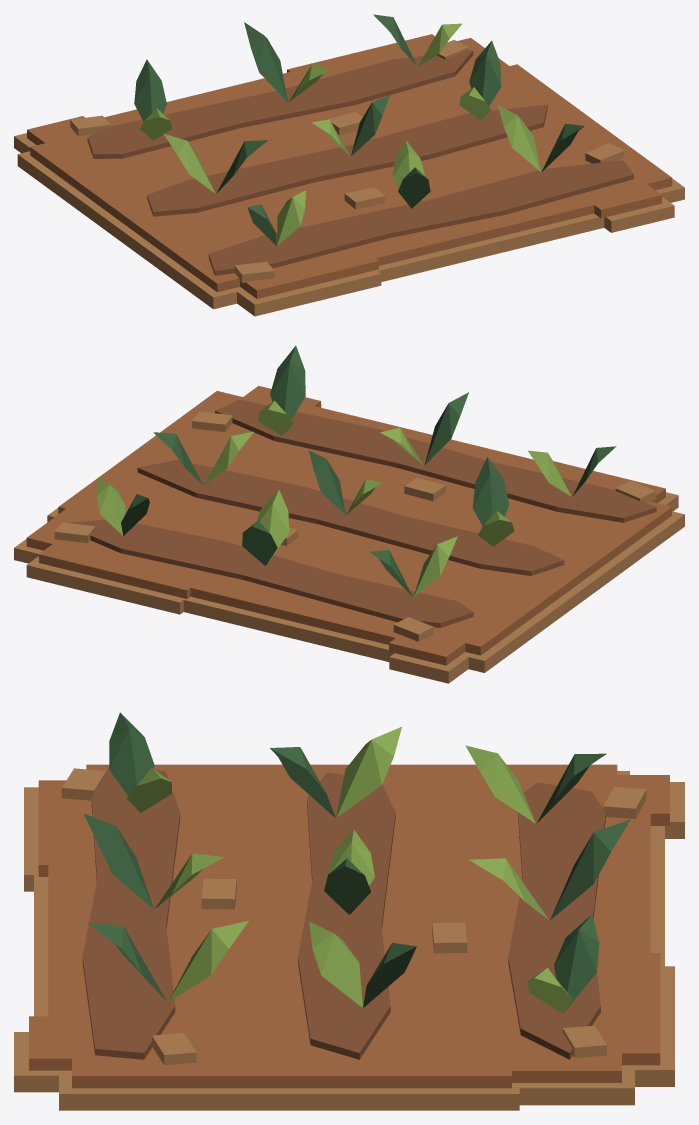
File: plot-sprout.glb
3 views of the same model, one above another, from view 1: azimuth 30°, elevation 25°; view 2: azimuth 150°, elevation 25°; view 3: azimuth 270°, elevation 25° (orthographic). The views are drawn at different scales.
Parts seen in each view (by area): view 1: Blade; view 2: Blade; view 3: Blade.
Part boxes in pixels (x1=…): Blade: x1=14, y1=14, x2=684, y2=316; Blade: x1=14, y1=345, x2=684, y2=683; Blade: x1=14, y1=712, x2=684, y2=1110.
Bounding box in the file's own units: 1.77 × 0.3212 × 1.55.
